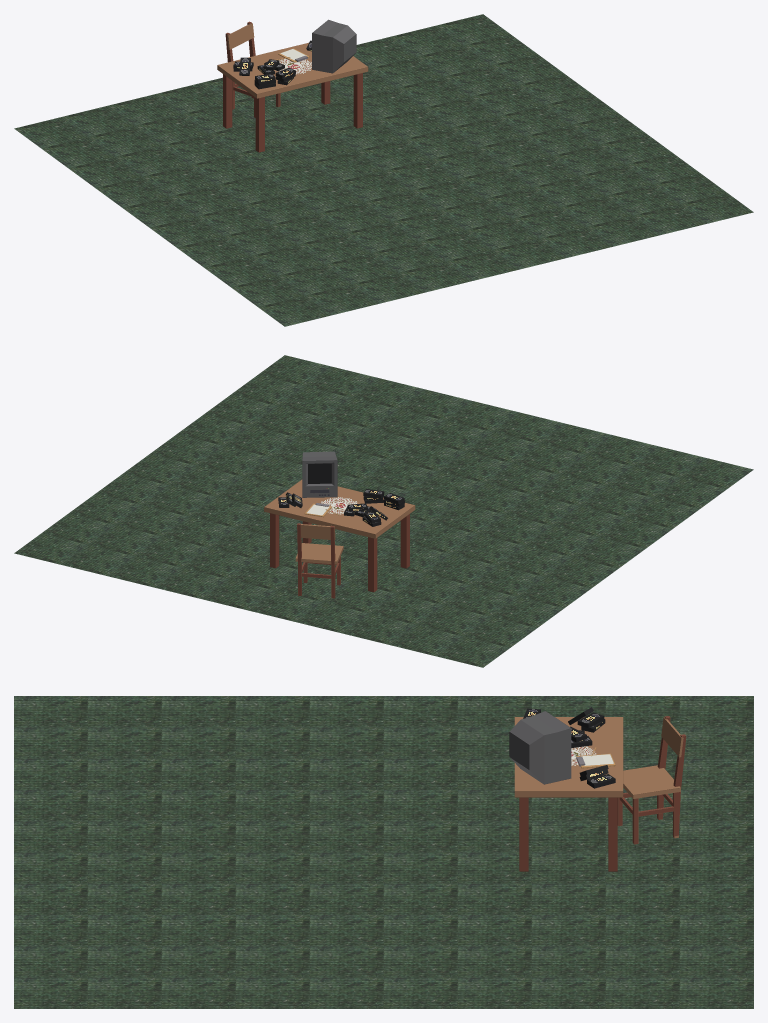
The model's file is Select Tape Scene.fbx.
3 views of the same model, one above another, from view 1: azimuth 30°, elevation 25°; view 2: azimuth 150°, elevation 25°; view 3: azimuth 270°, elevation 25° (orthographic). The views are drawn at different scales.
Visible parts, largest first — view 1: Table, TV, Carpet_16, Carpet_21, Carpet_31, Carpet_36, Carpet_53, Carpet_58, Carpet_81, Carpet_87, Carpet_92, Carpet_98 (+89 smaller); view 2: Table, TV, Carpet_17, Carpet_18, Carpet_39, Carpet_52, Carpet_61, Carpet_82, Carpet_88, Carpet_91, Carpet_97, Carpet_12 (+87 smaller); view 3: Table, TV, Carpet_1, Carpet_9, Carpet_10, Carpet_11, Carpet_12, Carpet_13, Carpet_14, Carpet_15, Carpet_16, Carpet_17 (+92 smaller).
Part boxes in pixels (box(x1,y1,x2,y2)): Table: box(217, 42, 368, 98); TV: box(312, 19, 356, 73); Carpet_16: box(364, 190, 437, 221); Carpet_21: box(485, 187, 558, 218); Carpet_31: box(451, 116, 524, 147); Carpet_36: box(552, 144, 625, 175); Carpet_53: box(243, 193, 316, 224); Carpet_58: box(142, 165, 215, 196); Carpet_81: box(305, 284, 377, 315); Carpet_87: box(586, 215, 659, 246); Carpet_92: box(108, 94, 181, 125); Carpet_98: box(390, 25, 462, 56); Table: box(264, 479, 415, 538); TV: box(302, 451, 337, 497); Carpet_17: box(364, 460, 437, 491); Carpet_18: box(485, 463, 558, 494); Carpet_39: box(142, 485, 215, 516); Carpet_52: box(451, 534, 524, 565); Carpet_61: box(552, 506, 625, 537); Carpet_82: box(586, 435, 659, 466); Carpet_88: box(305, 366, 377, 397); Carpet_91: box(390, 625, 462, 656); Carpet_97: box(108, 556, 181, 587); Carpet_12: box(431, 503, 504, 534); Table: box(514, 717, 623, 797); TV: box(509, 711, 571, 784); Carpet_1: box(532, 852, 605, 883); Carpet_9: box(384, 790, 457, 821); Carpet_10: box(384, 821, 457, 852); Carpet_11: box(384, 852, 457, 883); Carpet_12: box(310, 790, 383, 821); Carpet_13: box(310, 821, 383, 852); Carpet_14: box(310, 852, 383, 883); Carpet_15: box(236, 790, 309, 821); Carpet_16: box(236, 821, 309, 852); Carpet_17: box(236, 852, 309, 883).
Size of the model in its own units: 1000 by 198 by 1000.
6 materials, 6 textured.
